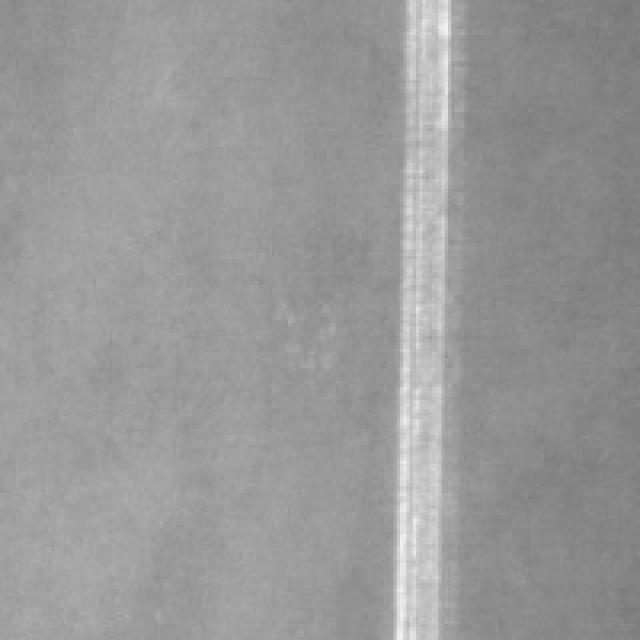scratches: (384, 0, 458, 634)
